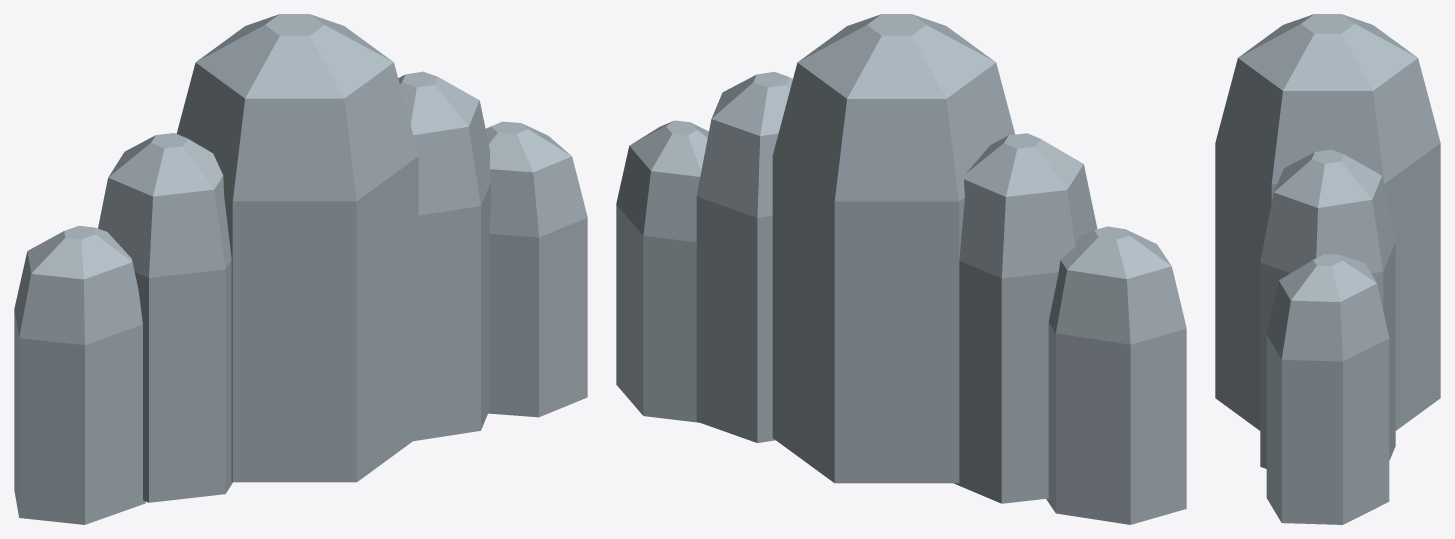
File: Rock_06.fbx
3 views of the same model, side by side, from view 1: azimuth 30°, elevation 25°; view 2: azimuth 150°, elevation 25°; view 3: azimuth 270°, elevation 25° (orthographic). The views are drawn at different scales.
Parts seen in each view (by area): view 1: Cylinder.005; view 2: Cylinder.005; view 3: Cylinder.005.
Part boxes in pixels (x1,y1,x2,y2): Cylinder.005: (14, 14, 587, 524); Cylinder.005: (616, 14, 1186, 524); Cylinder.005: (1215, 14, 1440, 524).
Bounding box in the file's own units: 3.1 × 2.24 × 1.2.
